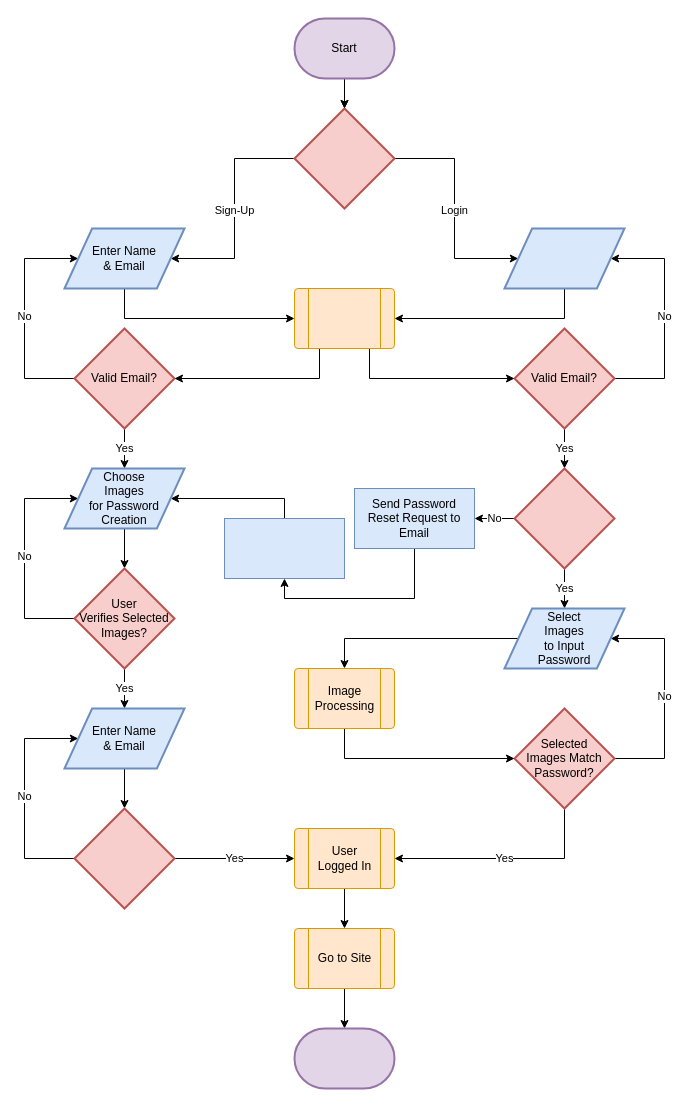
Image size: 690x1106. Some labels were removed from this diagram. Here are the shapes that lost their labels. From the top down, the centre of each, then its label:
At point (344, 158): "Login or Sign-Up".
At point (564, 258): "Enter Email".
At point (344, 318): "Email Processing".
At point (564, 518): "Remember Password?".
At point (284, 548): "User Accepts Password Reset Request from Email".
At point (124, 858): "User Confirms Hint(s)?".
At point (344, 1058): "End".
